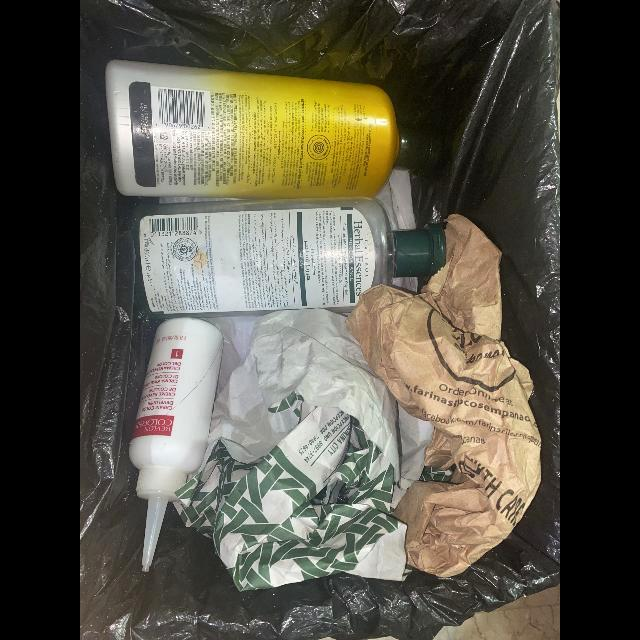paper: (175, 308, 433, 593), (345, 214, 542, 580)
plastic_bottle: (106, 60, 444, 200), (132, 198, 450, 318), (127, 318, 224, 573)
